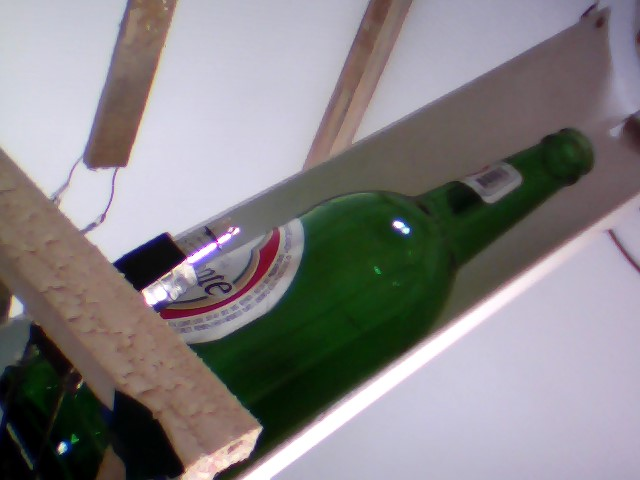vidrio: (191, 122, 605, 438)
